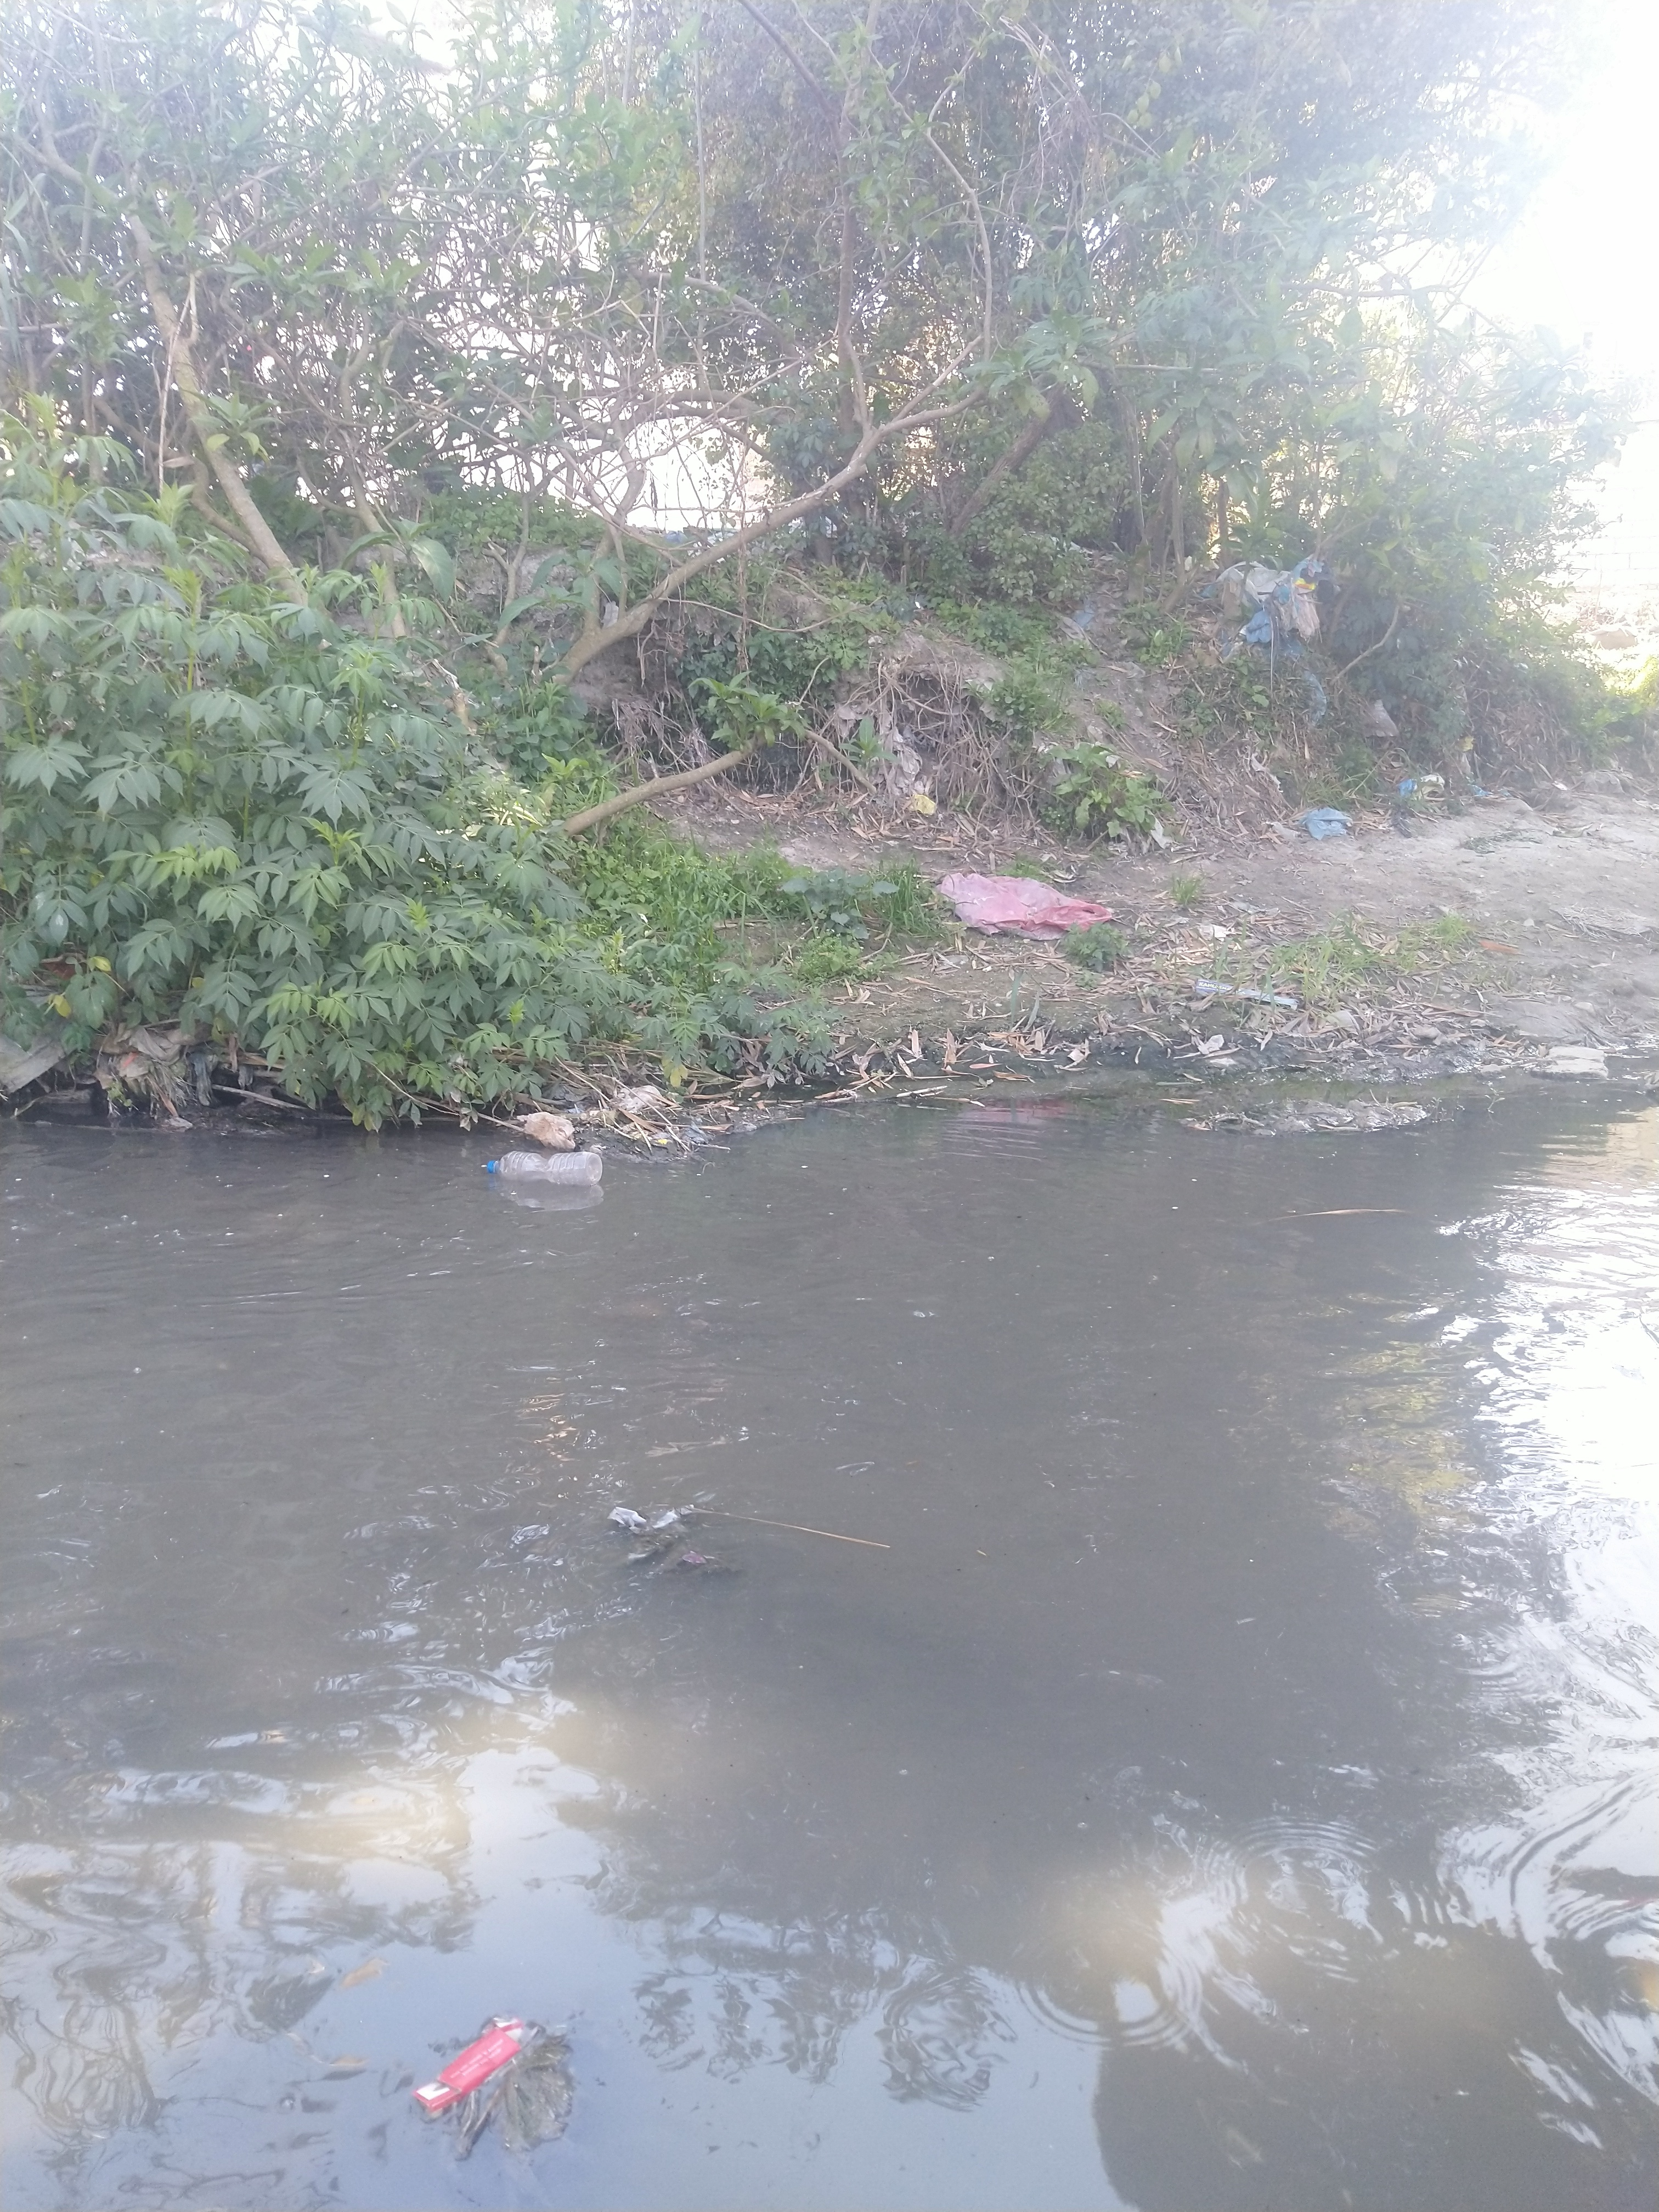Plastic Bottle: (488, 1150, 603, 1186)
